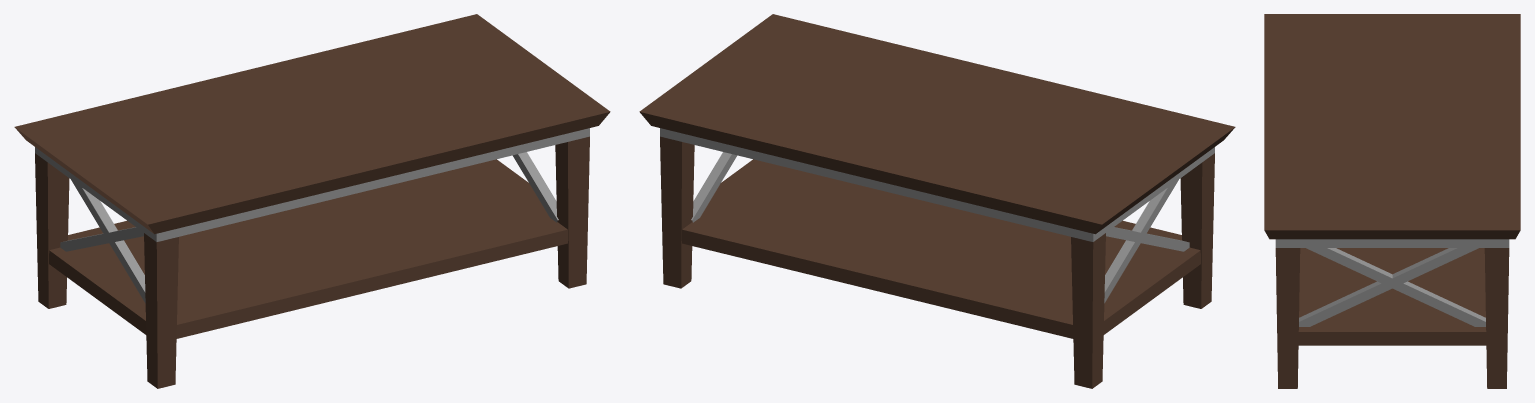
File: Mesh_MesaCafe.fbx
3 renders of one model, left to right at view 1: azimuth 30°, elevation 25°; view 2: azimuth 150°, elevation 25°; view 3: azimuth 270°, elevation 25°, orthographic. The views are drawn at different scales.
Visible parts, largest first — view 1: Mesh_MesaCafe; view 2: Mesh_MesaCafe; view 3: Mesh_MesaCafe.
Part boxes in pixels (box(x1,y1,x2,y2)): Mesh_MesaCafe: box(14, 14, 610, 388); Mesh_MesaCafe: box(639, 14, 1235, 388); Mesh_MesaCafe: box(1264, 14, 1520, 388).
Size of the model in its own units: 83.32 by 29.87 by 41.66.
